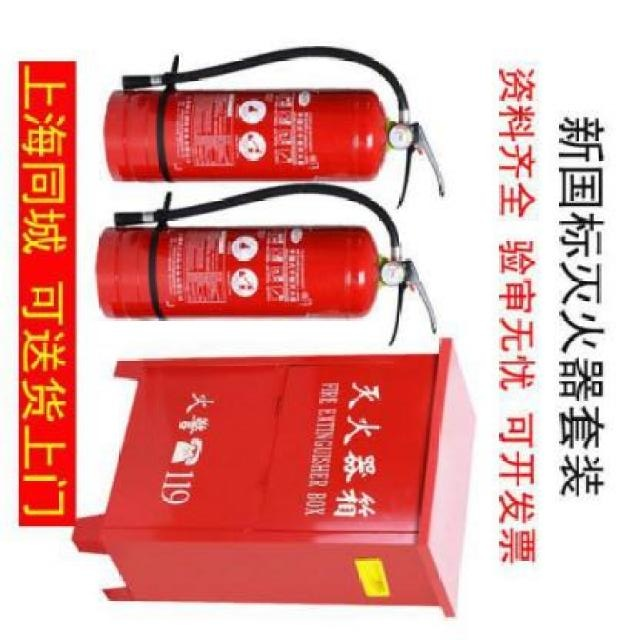fire extinguisher: (102, 46, 447, 211), (96, 181, 438, 345)
